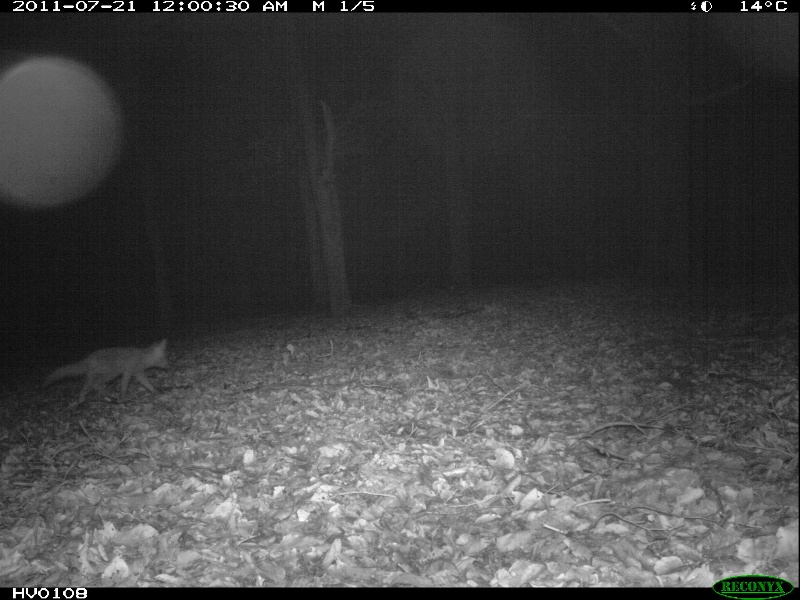fox: (47, 337, 172, 410)
